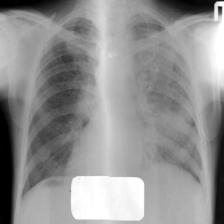tuberculosis: (21, 12, 208, 202)
